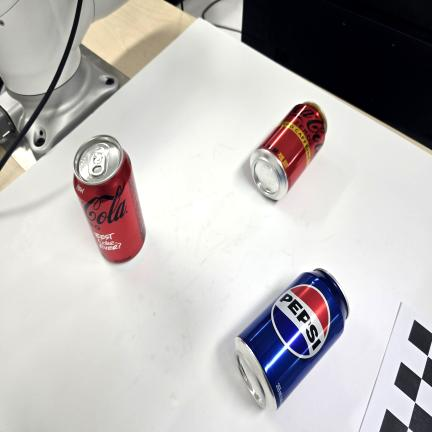can_coke_decaf: (251, 100, 328, 203)
can_coke_zero: (72, 137, 147, 262)
can_pepsi: (234, 267, 351, 411)
